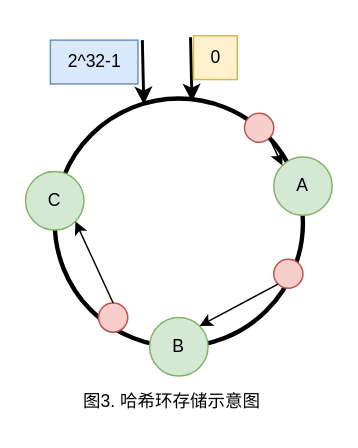
Image size: 358x448. Some labels were removed from this diagram. Here are the shapes that lost their labels. From the top down, the centre of each, then its label:
At [258,127]: "k1".
At [287,273]: "k2".
At [112,316]: "k3".
